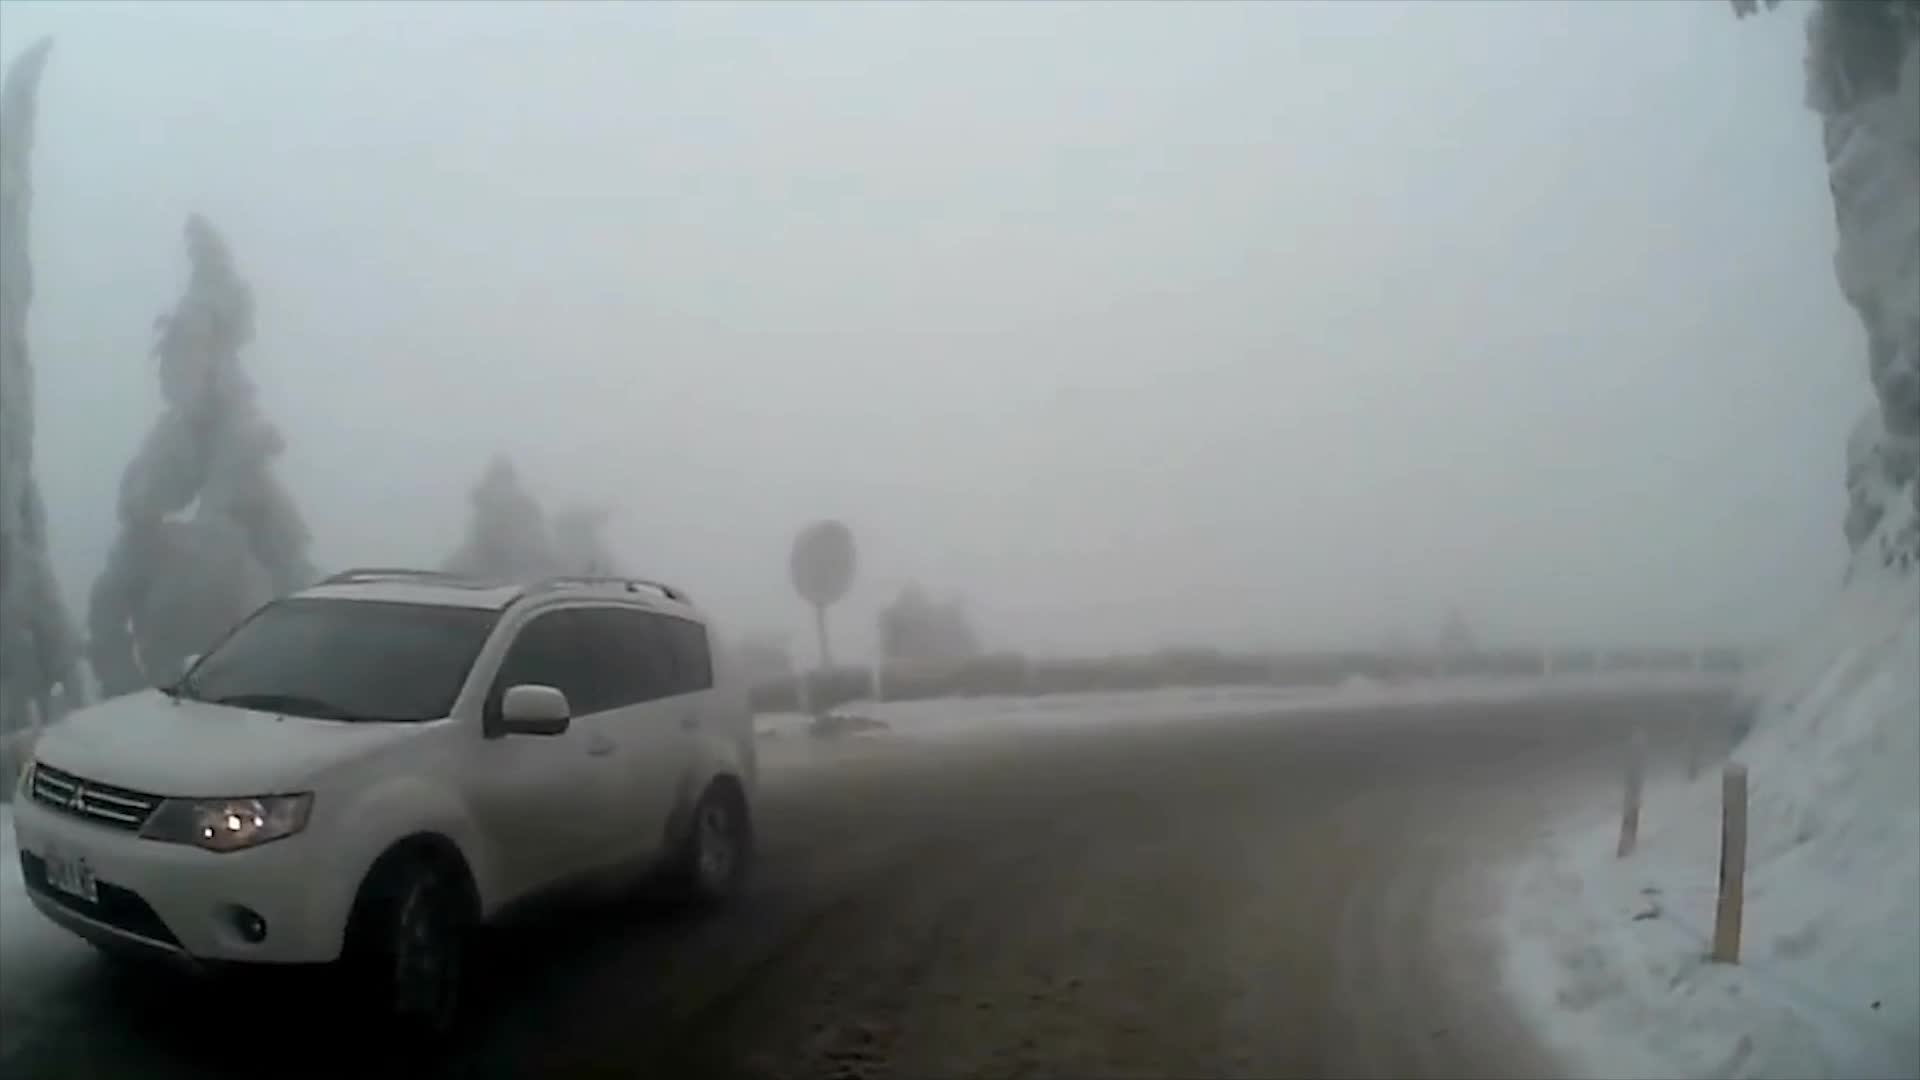vehicle: (11, 564, 757, 1055)
